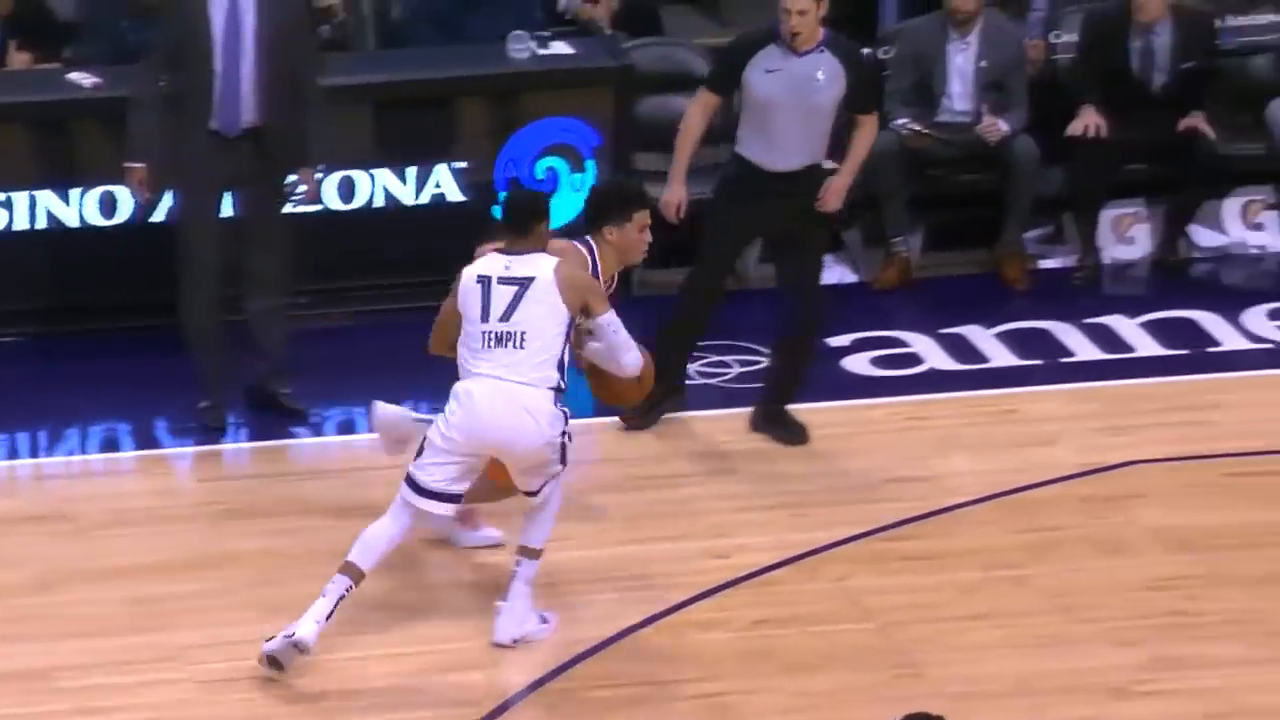ball: (587, 346, 655, 404)
